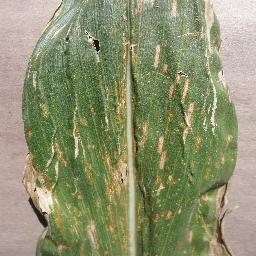Gray_Leaf_Spot: (19, 46, 241, 256), (31, 0, 224, 46)
